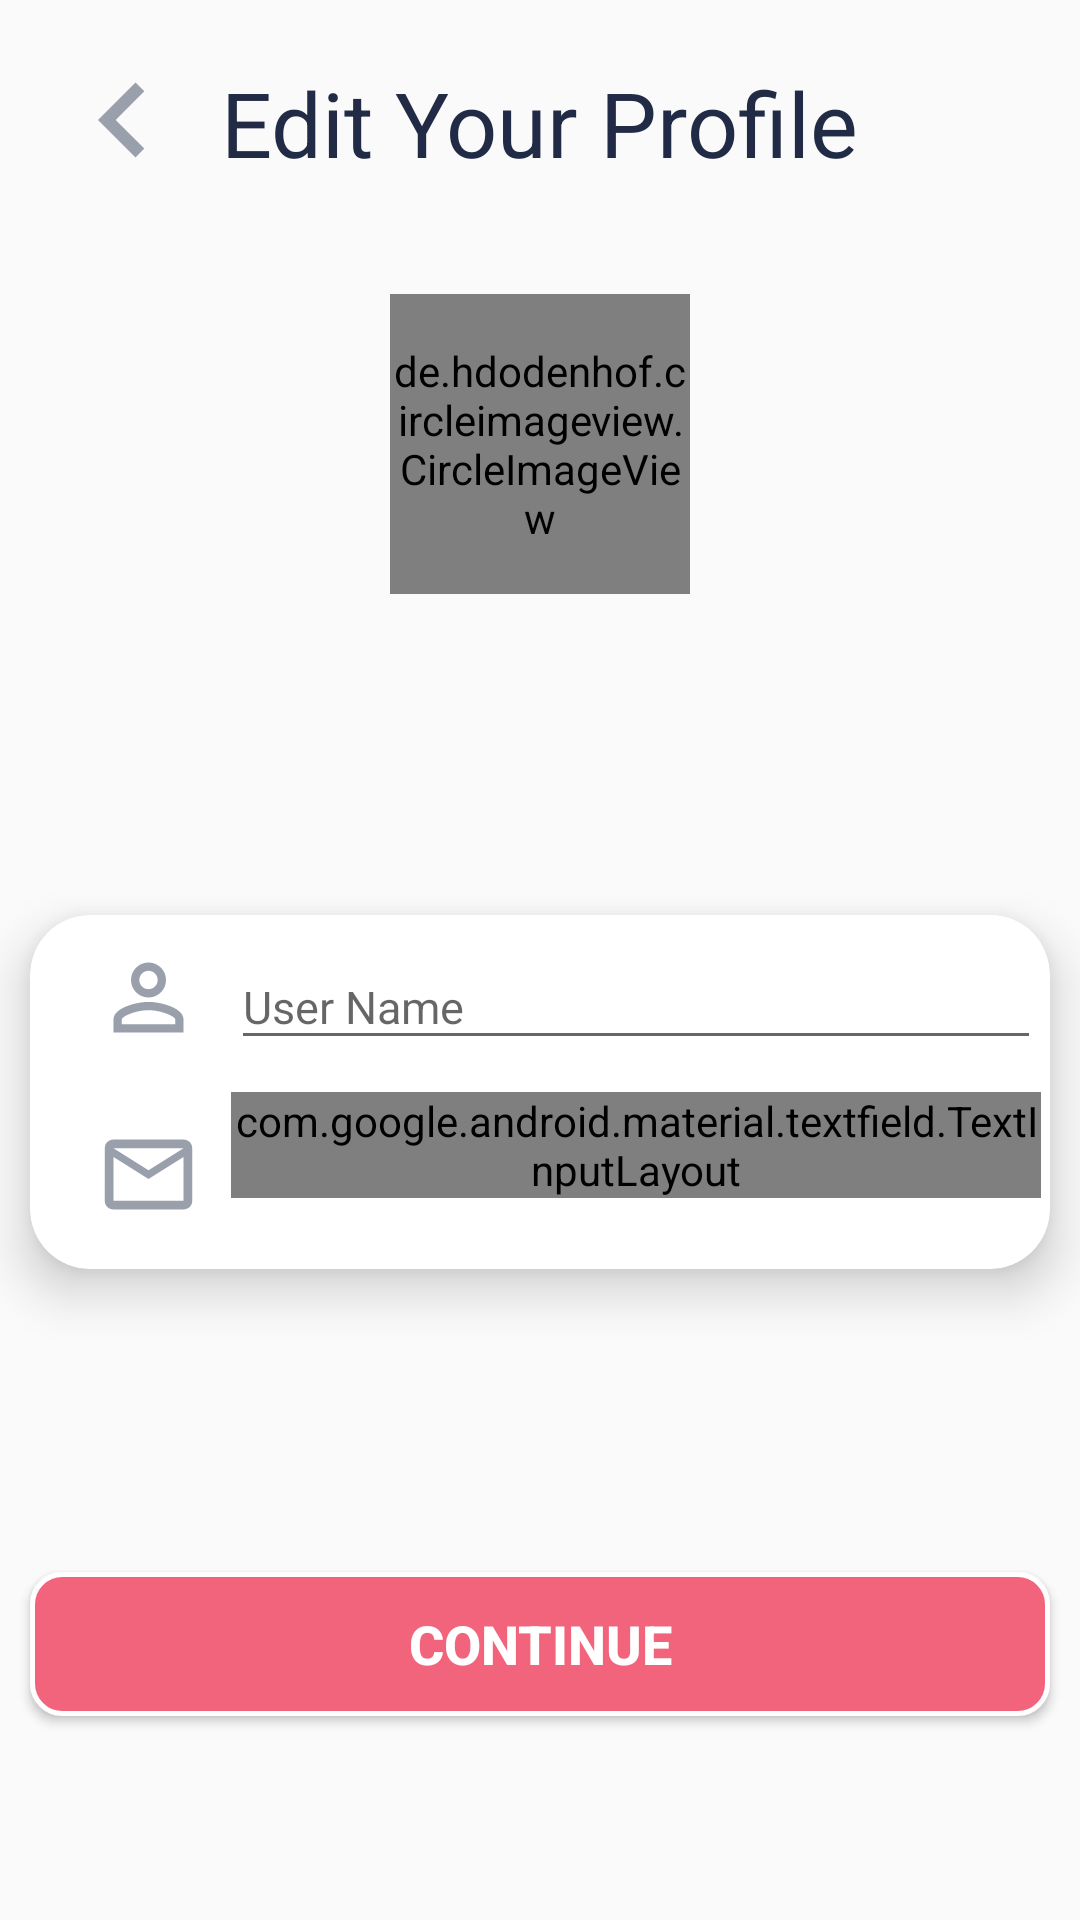

Point at icon controls on the screen. Image size 1080px x 1920px, points as (x=x, y=y).
left arrow: (x=121, y=120)
mmail: (x=148, y=1174)
person: (x=148, y=997)
